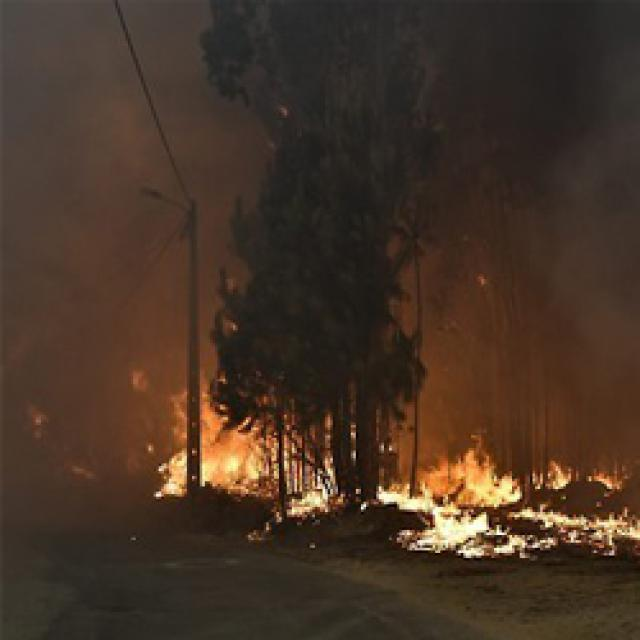Fire: (158, 380, 288, 503), (397, 504, 640, 564), (378, 440, 520, 508), (286, 461, 350, 523), (534, 460, 624, 498), (246, 498, 282, 546), (26, 404, 46, 442), (126, 369, 151, 393), (70, 463, 92, 480)
Smoke: (415, 0, 640, 430), (5, 0, 266, 370), (0, 371, 151, 640)
